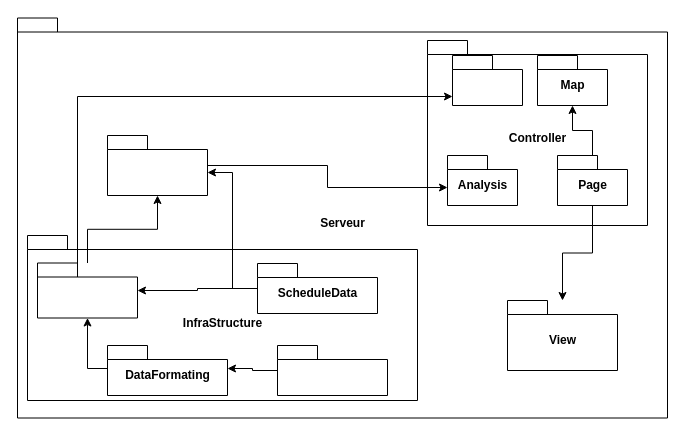
Some shapes in this 685 by 435 pixel diagram are drawn without their labels. The shapes that lost their labels are listed below. From the top down, each one's centre as x and y in pixels, then its label:
point (487, 80): Schedule
point (157, 165): DataAnalysis
point (87, 290): DBDriver
point (332, 370): Data
